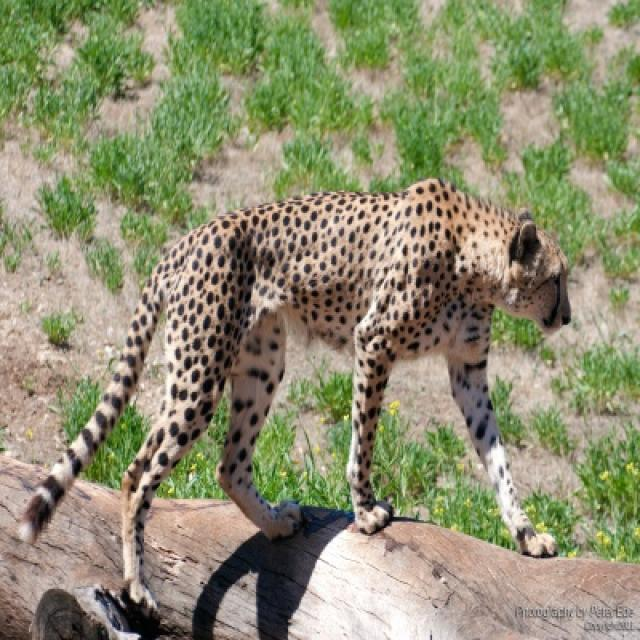Cheetah: (19, 179, 573, 618)
